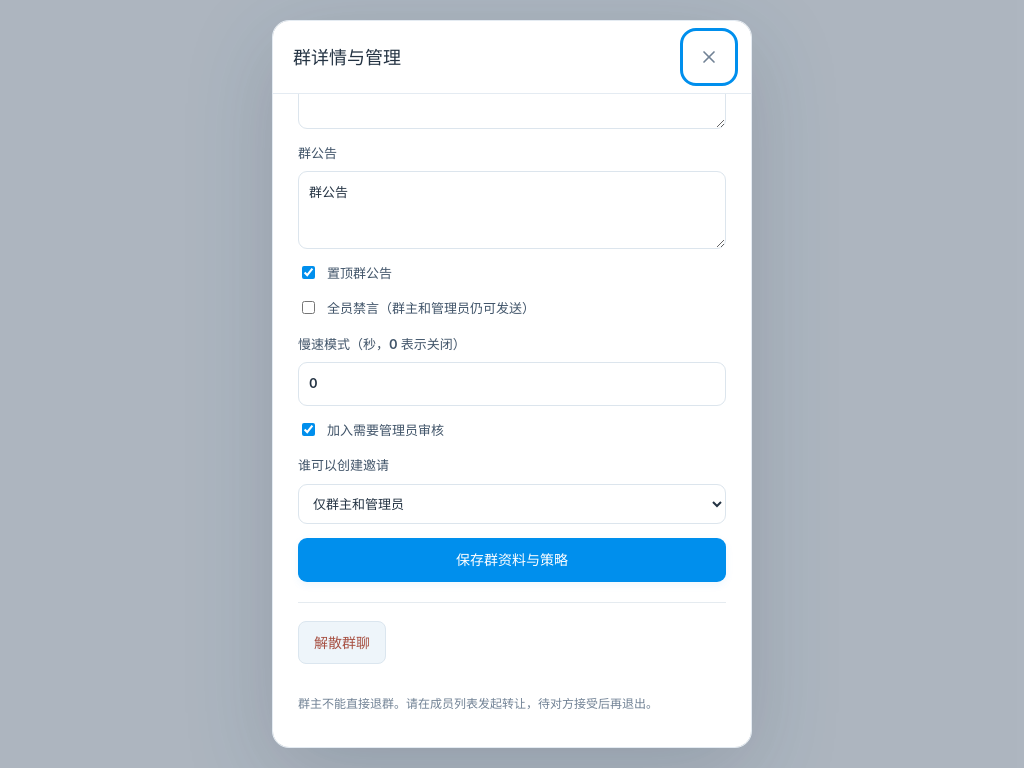
Test: M5-UI group creation and management › uses expectedVersion for settings and requires explicit refresh after conflict
The image size is (1024, 768).
(page scrolled)
Replace the text in the number field labelled "慢速模式（秒，0 表示关闭）" with "30". click: coordinates (512, 384)
box: x1=298 y1=362 x2=726 y2=406
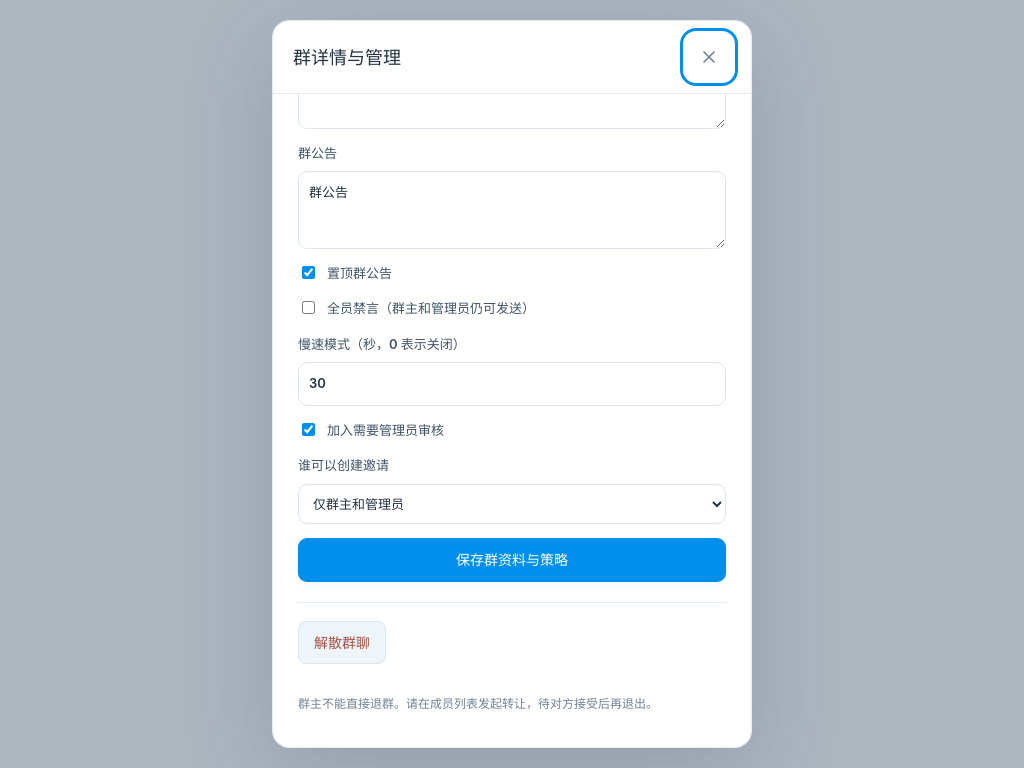
Click the button "保存群资料与策略". click: coordinates (512, 560)
box: x1=298 y1=538 x2=726 y2=582
(page scrolled)
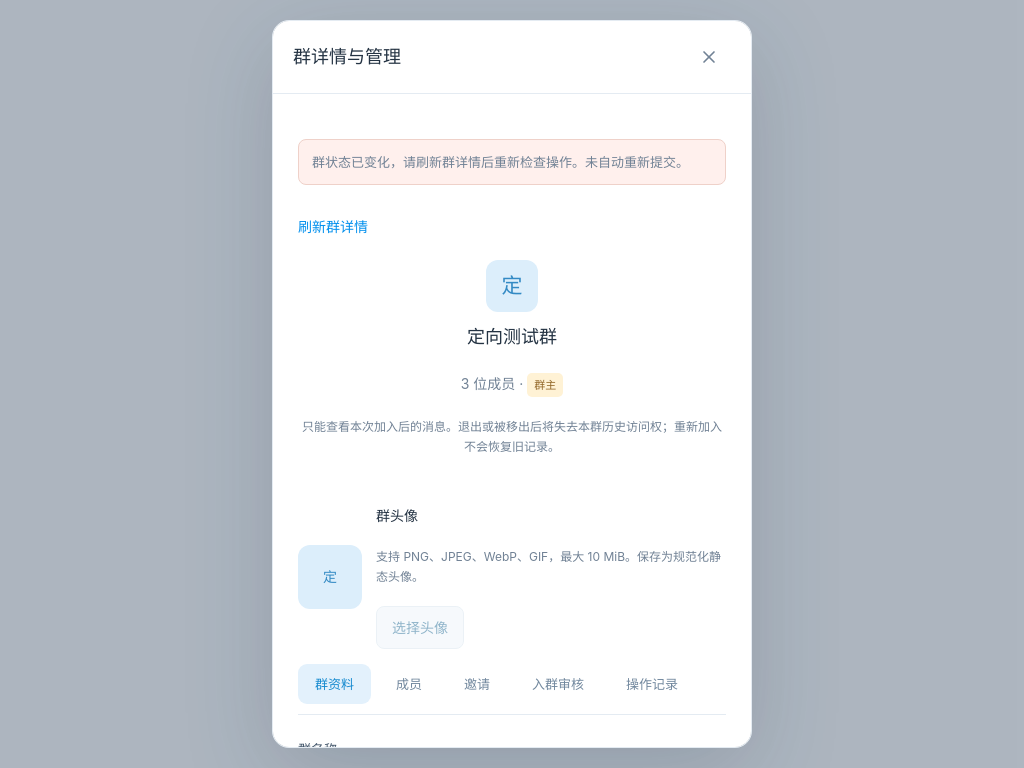
Check: the text "群状态已变化，请刷新群详情后重新检查操作。未自动重新提交。" is shown, box x1=298 y1=139 x2=726 y2=185
Click the button "刷新群详情". click: coordinates (333, 227)
box: x1=298 y1=205 x2=368 y2=248
(page scrolled)
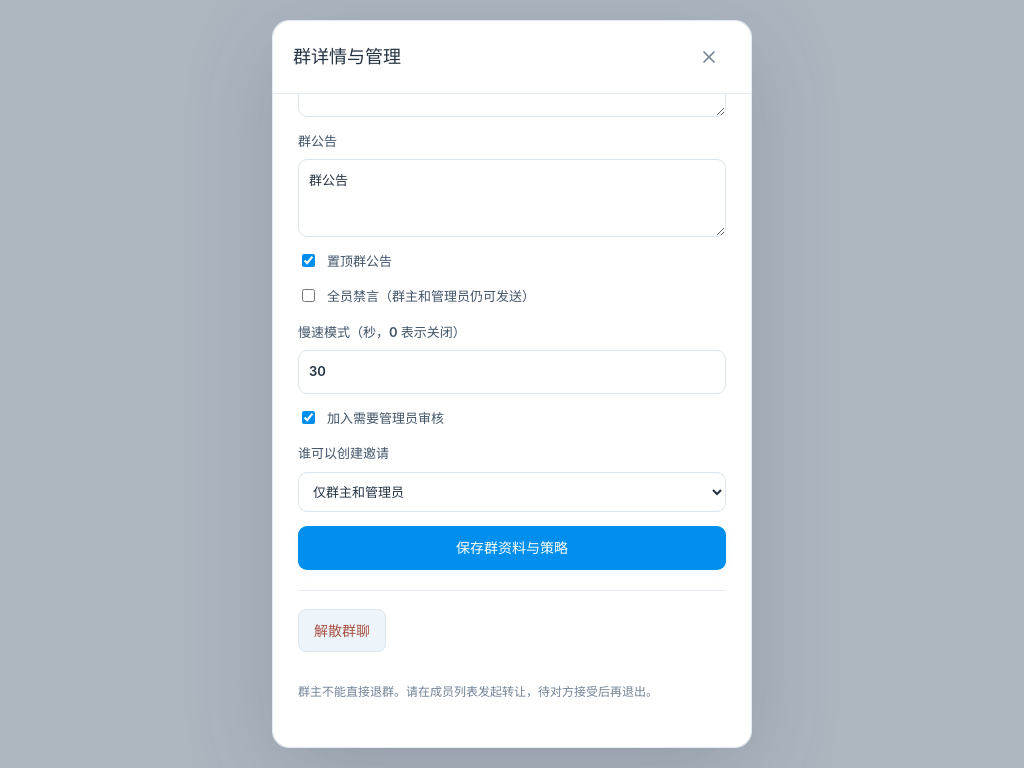
Check: the button "保存群资料与策略" is enabled, box x1=298 y1=526 x2=726 y2=570
